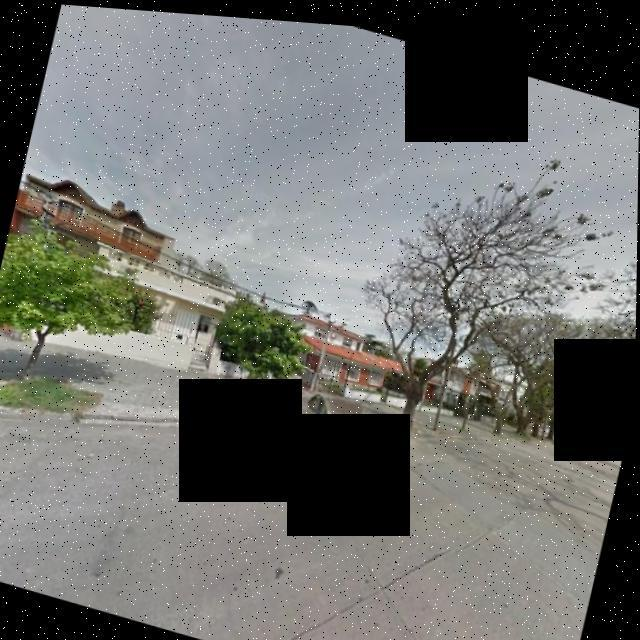bin: (285, 374, 379, 472)
